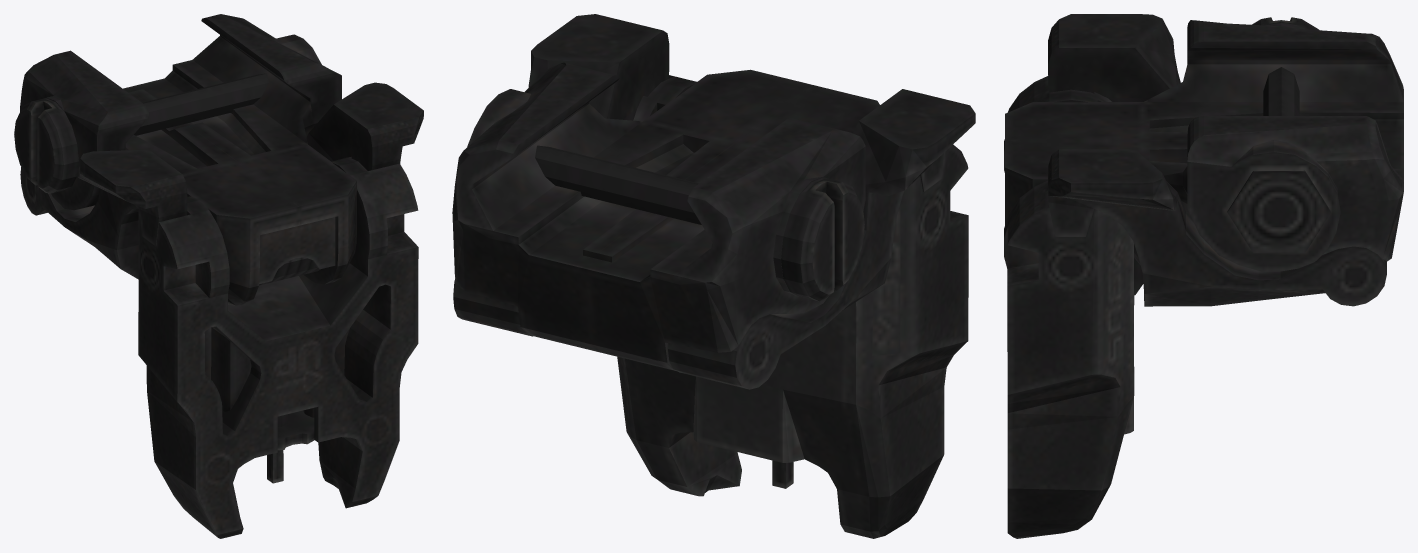
3 views of the same model, side by side, from view 1: azimuth 30°, elevation 25°; view 2: azimuth 150°, elevation 25°; view 3: azimuth 270°, elevation 25° (orthographic). The views are drawn at different scales.
Parts seen in each view (by area): view 1: TW_5bc09a30d4351e00367fb7c8_PZ_Import; view 2: TW_5bc09a30d4351e00367fb7c8_PZ_Import; view 3: TW_5bc09a30d4351e00367fb7c8_PZ_Import.
Part boxes in pixels (bbox=[...]): TW_5bc09a30d4351e00367fb7c8_PZ_Import: bbox=[14, 14, 423, 538]; TW_5bc09a30d4351e00367fb7c8_PZ_Import: bbox=[452, 14, 975, 538]; TW_5bc09a30d4351e00367fb7c8_PZ_Import: bbox=[1004, 14, 1403, 538].
Bounding box in the file's own units: 0.0209 × 0.0209 × 0.0242.
Materials: 1 (1 with a texture image).
